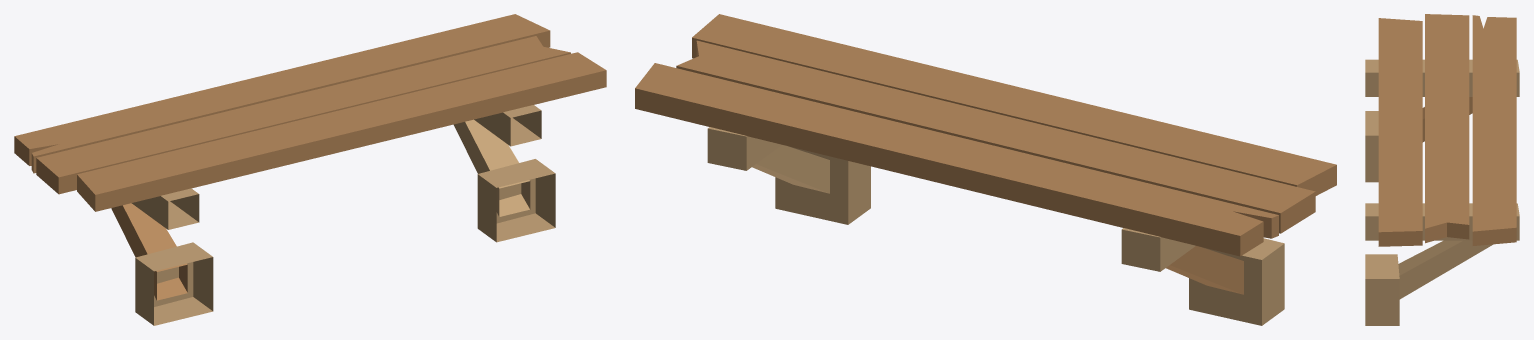
The model's file is shelf.fbx.
The picture shows the model from 3 angles, left to right: view 1: azimuth 30°, elevation 25°; view 2: azimuth 150°, elevation 25°; view 3: azimuth 270°, elevation 25°; orthographic projection. The views are drawn at different scales.
Parts seen in each view (by area): view 1: shelf; view 2: shelf; view 3: shelf.
Boxes of the visible parts, x1,y1,x2,y2 form: shelf: (14,14,606,325); shelf: (635,14,1336,325); shelf: (1365,14,1519,325).
Size of the model in its own units: 320 by 80.82 by 95.74.
